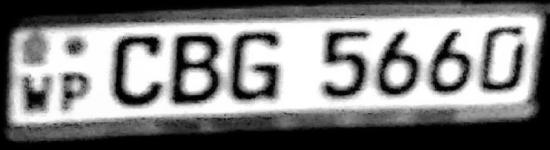0: (474, 23, 530, 101)
5: (311, 25, 372, 105), (19, 70, 54, 116)
6: (374, 24, 428, 102), (426, 22, 476, 102)
B: (166, 30, 228, 110)
C: (107, 30, 166, 113)
G: (226, 24, 294, 110)
P: (54, 70, 92, 113)
